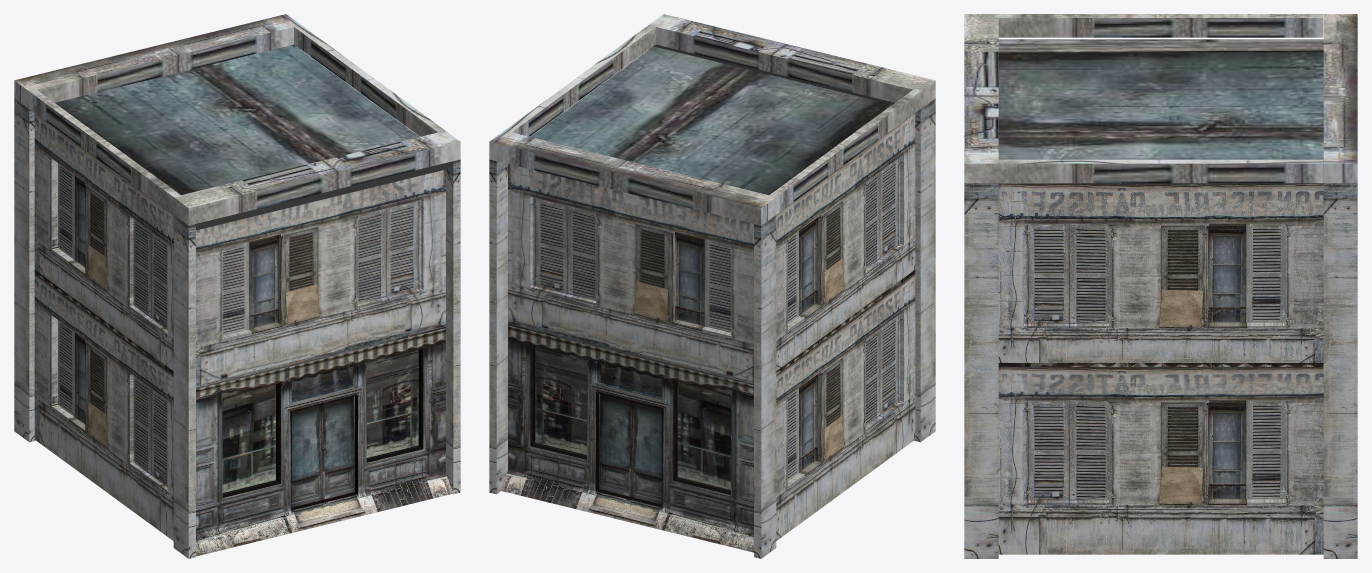
The picture shows the model from 3 angles, left to right: view 1: azimuth 30°, elevation 25°; view 2: azimuth 150°, elevation 25°; view 3: azimuth 270°, elevation 25°; orthographic projection. The views are drawn at different scales.
Visible parts, largest first — view 1: Plane.031; view 2: Plane.031; view 3: Plane.031.
Part boxes in pixels (<box>): Plane.031: <box>14,14,460,558</box>; Plane.031: <box>489,14,935,558</box>; Plane.031: <box>964,14,1357,558</box>.
Bounding box in the file's own units: 1.47 × 1.82 × 1.64.
Materials: 1 (1 with a texture image).
